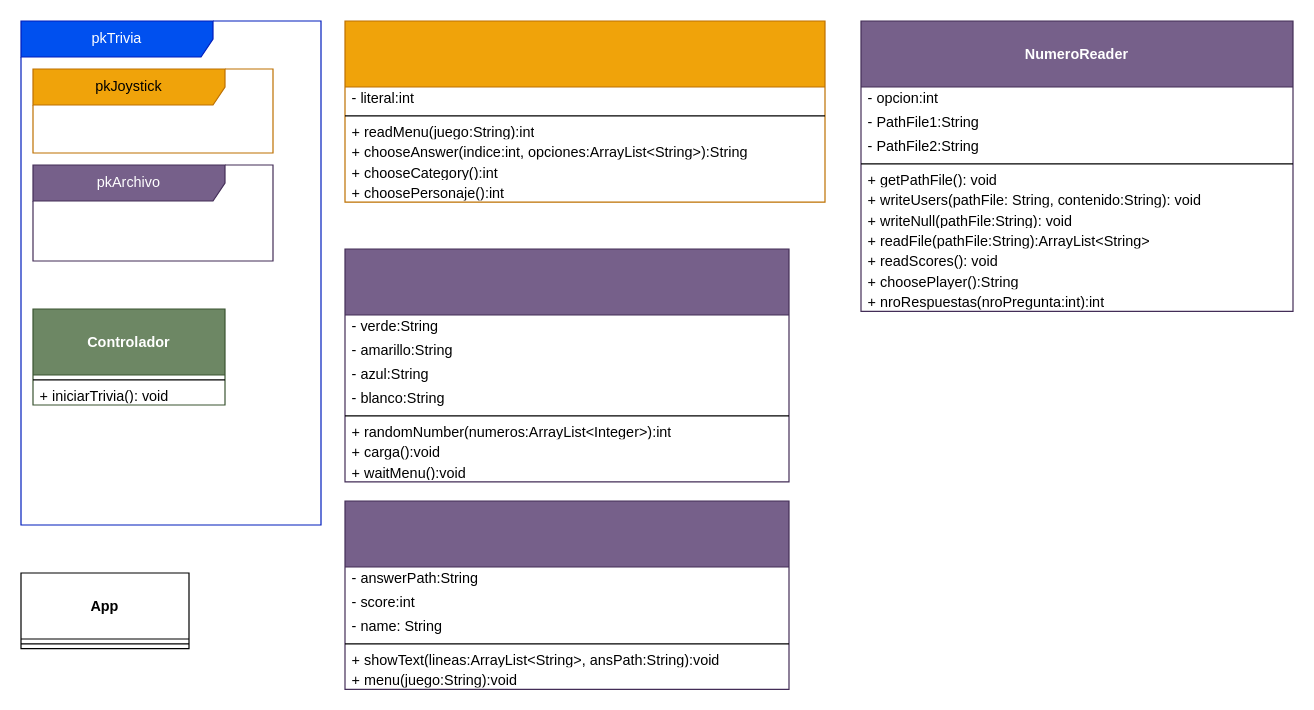
This 1314x710 diagram has some shape labels left out. The box of each missing label's shape, as (x1, y1, x2, y2) in pixels:
ArchivoFuncion: (344, 500, 789, 689)
Control: (344, 20, 825, 202)
Tool: (344, 248, 789, 482)
